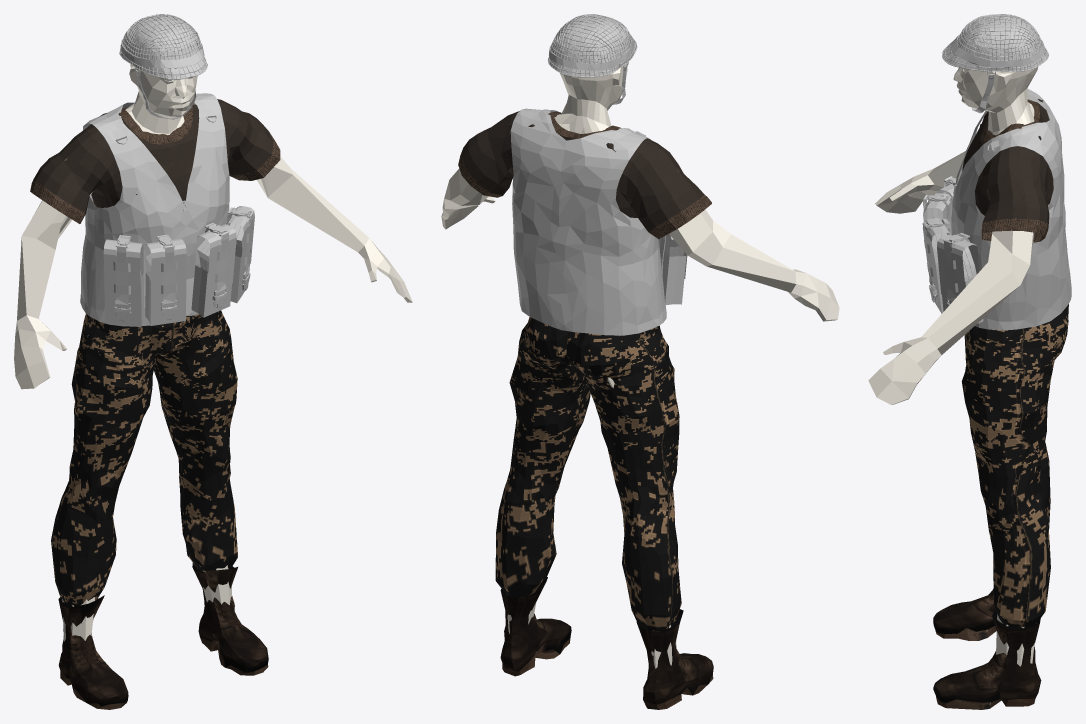
Rendered from soldier2.fbx.
The picture shows the model from 3 angles, left to right: view 1: azimuth 30°, elevation 25°; view 2: azimuth 150°, elevation 25°; view 3: azimuth 270°, elevation 25°; orthographic projection.
Visible parts, largest first — view 1: soldier2; view 2: soldier2; view 3: soldier2.
Part boxes in pixels (box(x1,y1,x2,y2)): soldier2: box(14, 14, 412, 709); soldier2: box(441, 14, 839, 709); soldier2: box(868, 14, 1071, 709).
Size of the model in its own units: 395 by 633 by 179.
